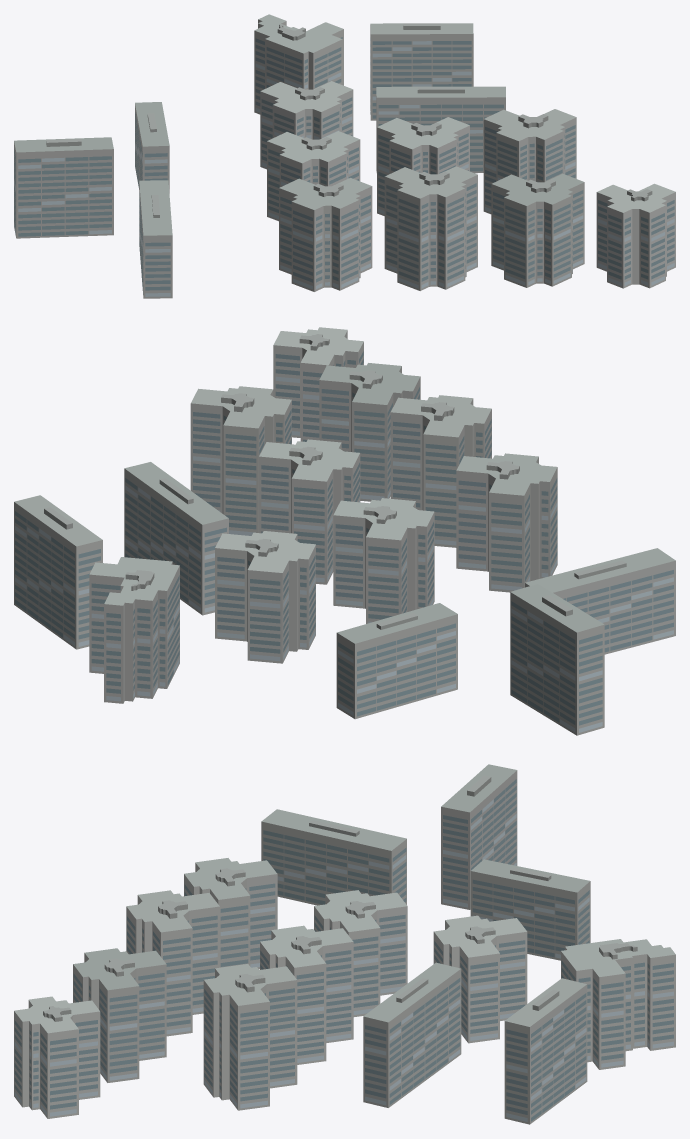
Rendered from apt-a10026947.glb.
3 renders of one model, top to bottom at view 1: azimuth 30°, elevation 25°; view 2: azimuth 150°, elevation 25°; view 3: azimuth 270°, elevation 25°, orthographic. The views are drawn at different scales.
Visible parts, largest first — view 1: apt-a10026947; view 2: apt-a10026947; view 3: apt-a10026947.
Part boxes in pixels (left/top/right/bottom): apt-a10026947: left=14, top=14, right=675, bottom=298; apt-a10026947: left=14, top=327, right=675, bottom=735; apt-a10026947: left=14, top=764, right=675, bottom=1124.
Size of the model in its own units: 226 by 44 by 241.
